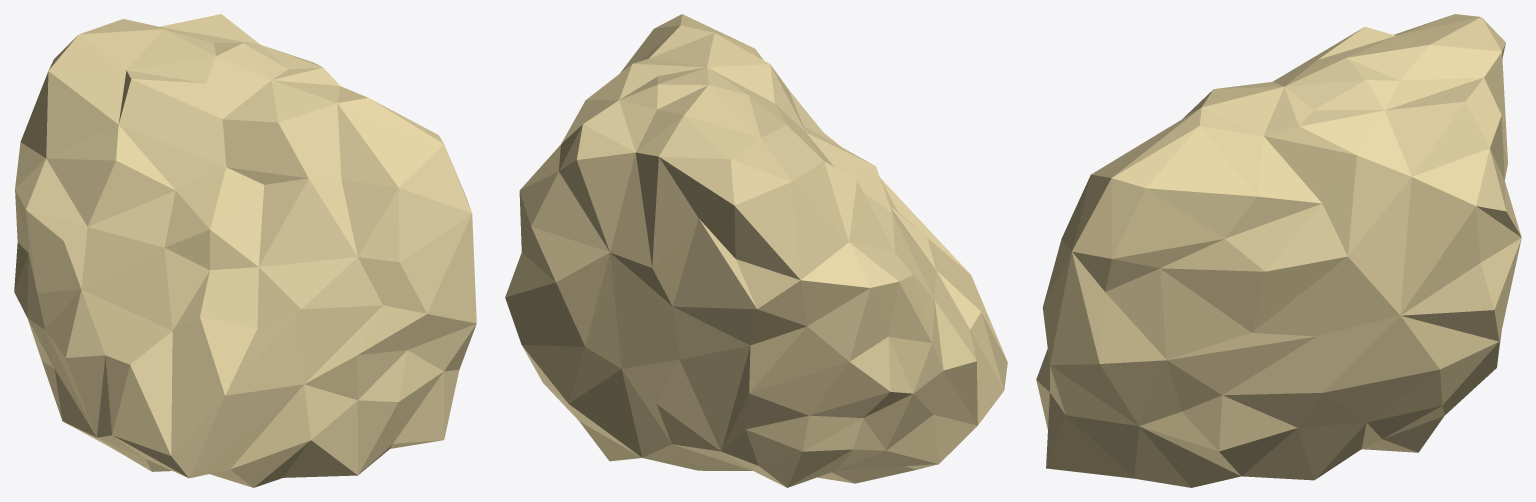
The model's file is Asteroid (66).fbx.
The picture shows the model from 3 angles, left to right: view 1: azimuth 30°, elevation 25°; view 2: azimuth 150°, elevation 25°; view 3: azimuth 270°, elevation 25°; orthographic projection. The views are drawn at different scales.
Parts seen in each view (by area): view 1: Asteroid214; view 2: Asteroid214; view 3: Asteroid214.
Part boxes in pixels (x1,y1,x2,y2): Asteroid214: (14,14,476,487); Asteroid214: (505,14,1007,487); Asteroid214: (1036,14,1521,487).
Size of the model in its own units: 547 by 538 by 586.
